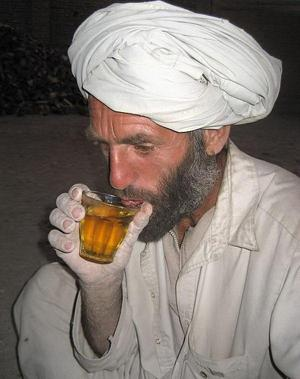person: (7, 5, 299, 379)
